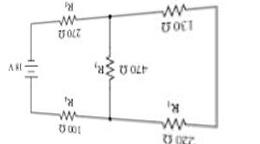resistor: (159, 112, 193, 130), (157, 2, 189, 18), (103, 50, 117, 83), (56, 104, 82, 120), (57, 10, 80, 26)
